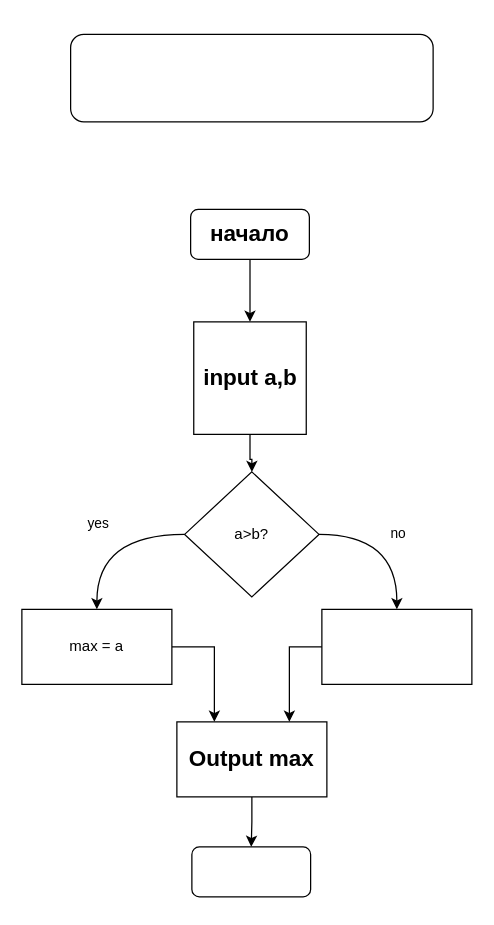
The diagram is 494 pixels wide and 925 high, and some of its shapes have lost their labels. Each missing label, with the centre of its shape:
"BB x TOP - one work in draw.io" goes at (251,77).
"max = b" goes at (396,646).
"конец" goes at (251,871).
